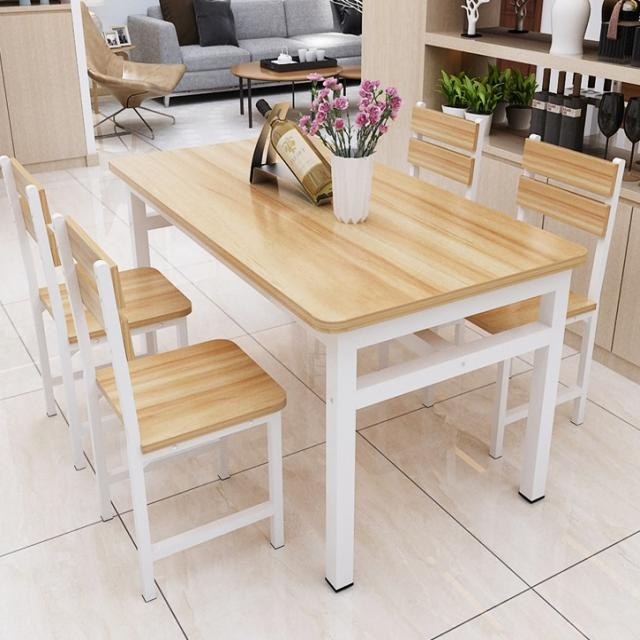table: (96, 112, 600, 370)
